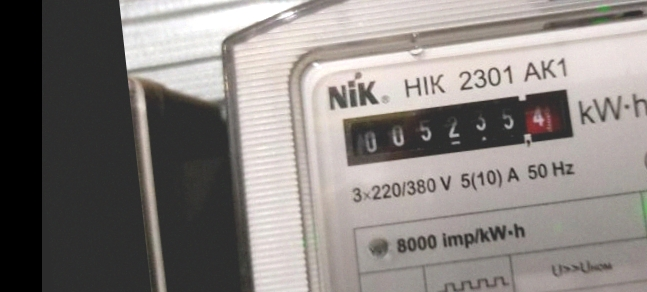0: (389, 121, 407, 147), (362, 126, 379, 153)
2: (443, 111, 462, 139)
3: (470, 105, 490, 132)
4: (528, 99, 549, 130)
5: (498, 101, 517, 131), (417, 115, 433, 142)
screen: (328, 76, 584, 175)
